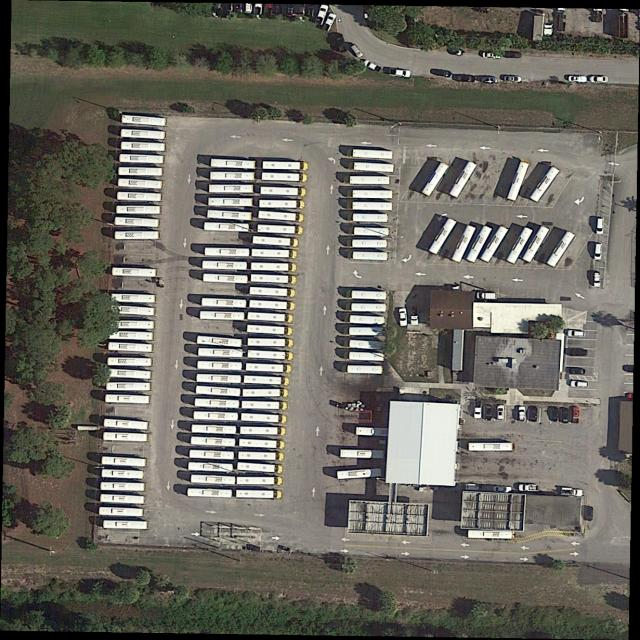large-vehicle: (529, 166, 560, 203), (546, 230, 576, 268), (428, 218, 458, 255), (449, 161, 478, 199), (480, 225, 509, 263), (522, 225, 550, 264), (506, 227, 533, 265), (466, 225, 492, 264), (506, 160, 530, 201), (451, 225, 476, 263), (422, 162, 449, 196), (253, 235, 299, 248), (103, 419, 151, 431), (196, 335, 243, 347), (118, 178, 165, 190), (101, 456, 148, 468), (241, 412, 288, 424), (247, 312, 294, 324), (121, 115, 168, 127), (195, 385, 241, 397), (111, 305, 157, 317), (107, 368, 153, 380), (258, 210, 304, 222), (237, 462, 283, 474), (337, 468, 382, 480), (202, 273, 249, 284), (108, 342, 155, 353), (114, 217, 161, 228), (99, 507, 146, 518), (105, 394, 152, 405), (100, 494, 147, 505), (355, 427, 402, 438), (187, 488, 233, 499), (190, 474, 236, 485), (190, 436, 236, 447), (117, 191, 163, 202), (121, 129, 167, 140), (207, 210, 253, 221), (244, 375, 290, 386), (247, 325, 293, 336), (101, 469, 146, 480), (261, 186, 306, 197), (250, 300, 295, 311), (102, 520, 150, 530), (111, 294, 158, 304), (118, 167, 165, 177), (107, 357, 154, 367), (100, 482, 147, 492), (103, 432, 150, 442), (257, 225, 304, 235), (245, 363, 292, 373), (352, 149, 394, 160), (189, 450, 235, 460), (193, 411, 239, 421), (194, 398, 240, 408), (197, 360, 243, 370), (339, 449, 385, 459), (201, 298, 247, 308), (204, 247, 250, 257), (109, 331, 155, 341), (110, 320, 156, 330), (119, 154, 165, 164), (121, 142, 167, 152), (204, 222, 250, 232), (262, 172, 308, 182), (251, 262, 297, 272), (251, 274, 297, 284), (239, 439, 285, 449), (242, 401, 288, 411), (250, 287, 296, 297), (247, 350, 293, 360), (354, 162, 395, 173), (188, 462, 233, 472), (198, 348, 243, 358), (210, 171, 255, 181), (211, 159, 256, 169), (252, 249, 297, 259), (197, 374, 241, 384), (112, 268, 159, 277), (116, 206, 163, 215), (106, 383, 153, 392), (468, 442, 515, 451), (247, 338, 294, 347), (348, 339, 386, 350), (191, 425, 237, 434), (115, 231, 161, 240), (208, 198, 254, 207), (208, 184, 254, 193), (468, 530, 514, 539), (236, 490, 282, 499), (263, 162, 309, 171), (259, 200, 305, 209), (237, 477, 283, 486), (238, 452, 284, 461), (240, 426, 286, 435), (200, 311, 245, 320), (202, 261, 247, 270), (352, 190, 394, 199), (352, 202, 394, 211), (347, 365, 384, 375), (352, 251, 389, 261), (349, 315, 386, 325), (350, 176, 391, 185), (243, 389, 289, 397), (352, 290, 388, 300), (349, 327, 386, 336), (349, 352, 385, 361), (354, 227, 390, 236), (351, 303, 387, 312), (352, 240, 388, 248), (353, 214, 389, 222)
small-vehicle: (322, 13, 338, 31), (334, 33, 348, 53), (315, 5, 329, 25), (363, 59, 382, 73), (350, 44, 364, 59), (388, 69, 411, 78), (445, 47, 465, 57), (399, 308, 409, 327), (430, 68, 451, 77), (561, 488, 583, 496), (569, 348, 588, 357), (584, 506, 594, 522), (560, 408, 570, 424), (571, 407, 580, 424), (596, 218, 605, 235), (595, 244, 604, 261), (528, 407, 538, 422), (477, 292, 498, 299), (568, 330, 586, 338), (503, 51, 521, 59), (493, 486, 513, 493), (482, 52, 502, 59), (518, 484, 538, 491), (496, 405, 505, 420), (570, 381, 589, 388), (569, 76, 588, 83), (474, 403, 482, 419), (550, 408, 559, 422), (594, 273, 602, 288), (454, 75, 474, 81), (569, 368, 586, 375), (517, 407, 526, 420), (591, 76, 609, 82), (480, 76, 498, 82), (504, 76, 521, 82)
